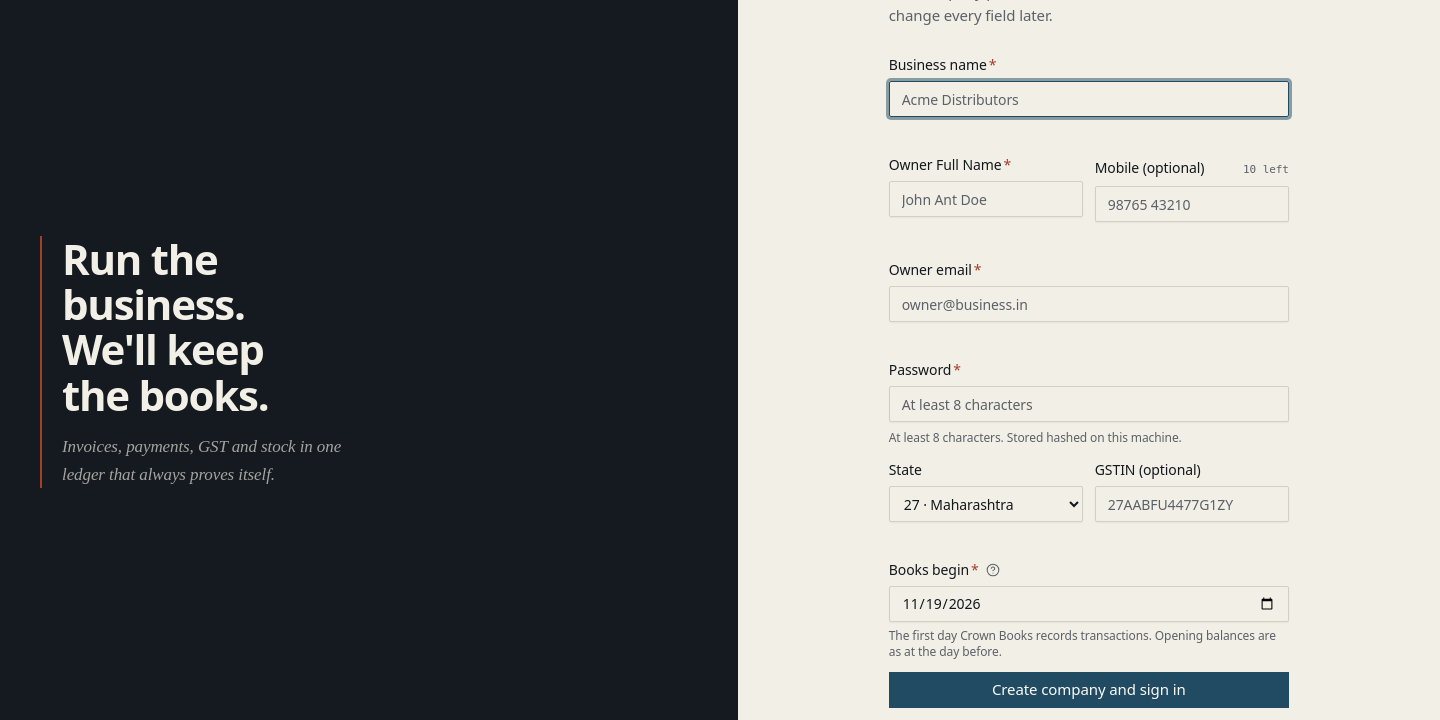
it: AuthGate setup form › clears the error and turns green once the field is corrected
(page scrolled)
Click the button "Create company and sign in" at [1089, 690], box [889,672,1289,708]
(page scrolled)
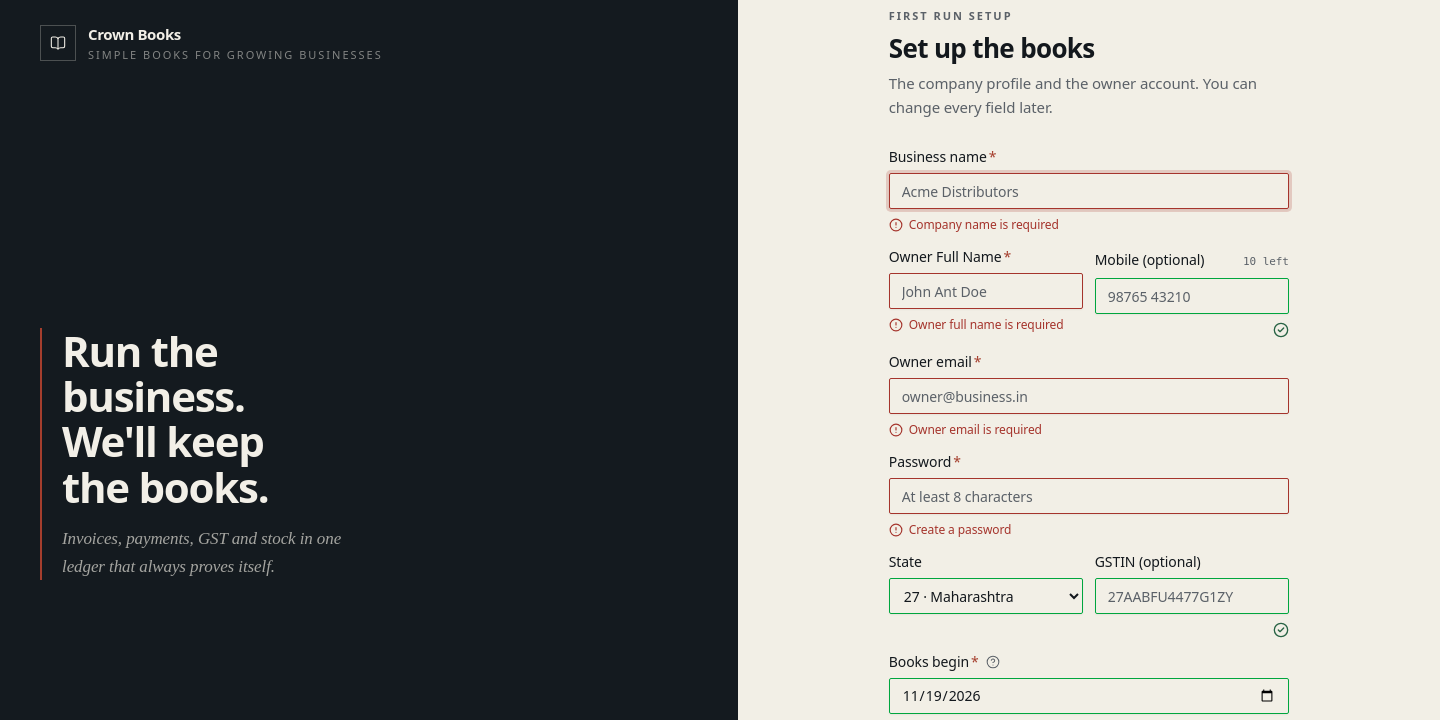
Result: the text "Company name is required" is shown at [909,217,1059,233]
Type "Acme" into the field labelled "Business name*" at [1089, 191], box [889,173,1289,209]
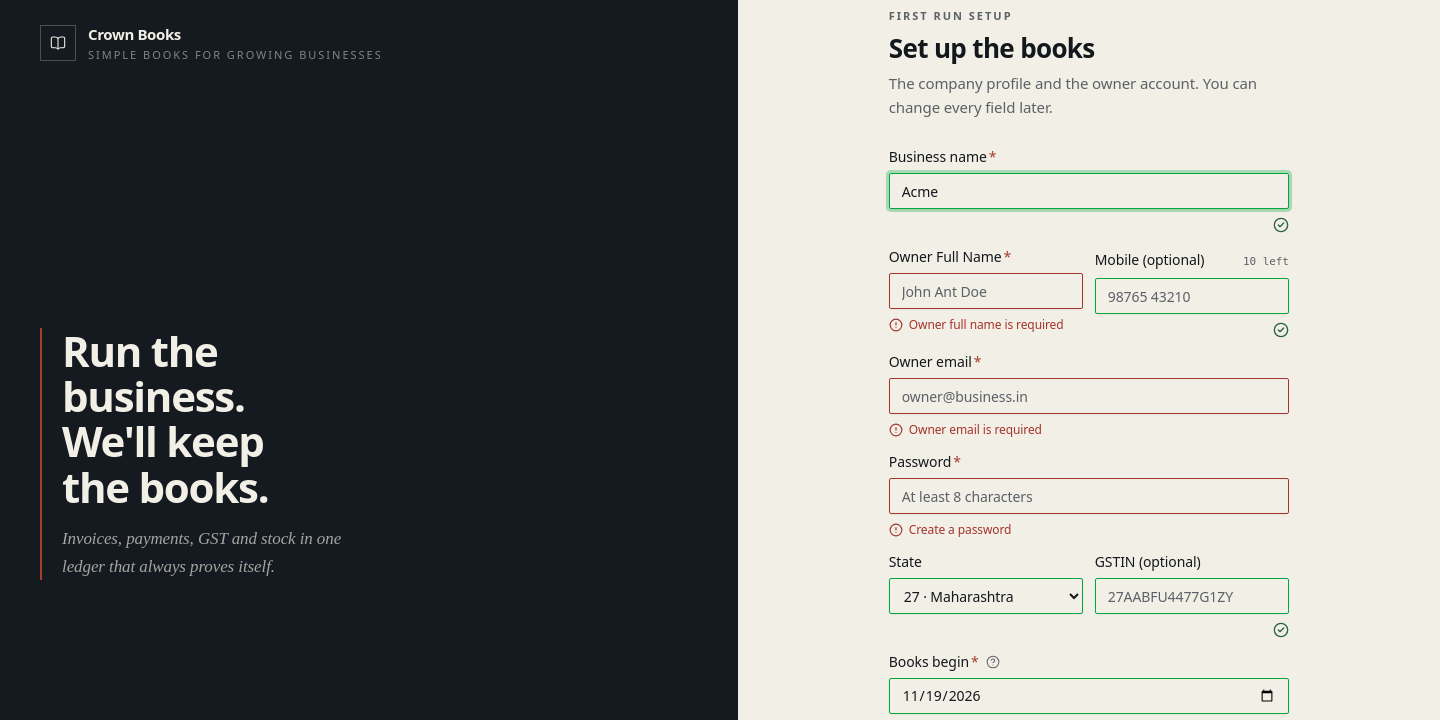
Result: the text "Company name is required" is gone
